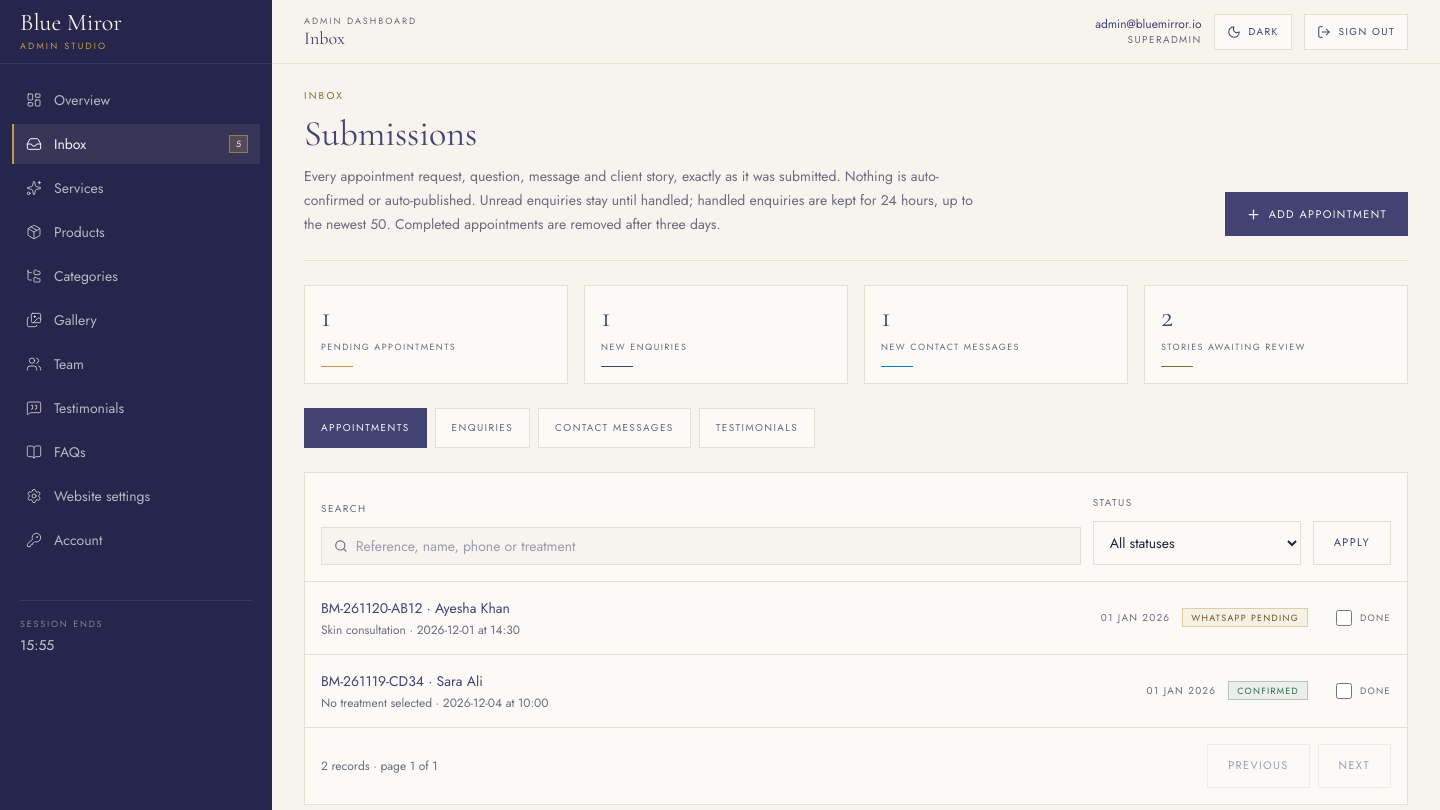
Test: Inbox page › opens an appointment and records a status change with history
Click the text "BM-261120-AB12 · Ayesha Khan".
click(420, 608)  # box [321,598,520,618]
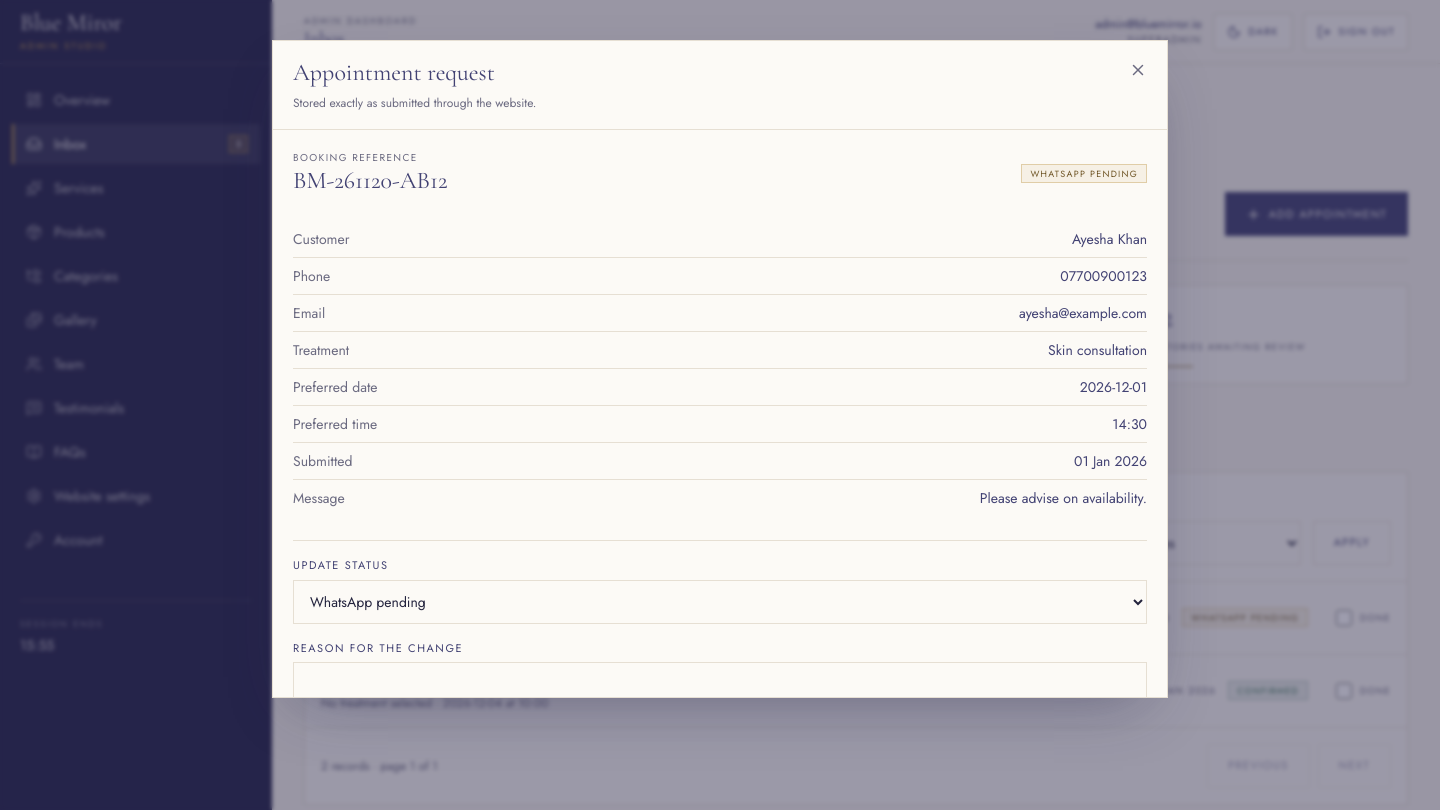
Result: the text "Ayesha Khan" is shown at [1072,229,1147,249]
Result: the text "07700900123" is shown at [1060,266,1147,286]
Result: the text "Please advise on availability." is shown at [980,488,1147,508]
Select "Contacted" in the dropdown labelled "Update status" at (720, 602), box [293,580,1147,624]
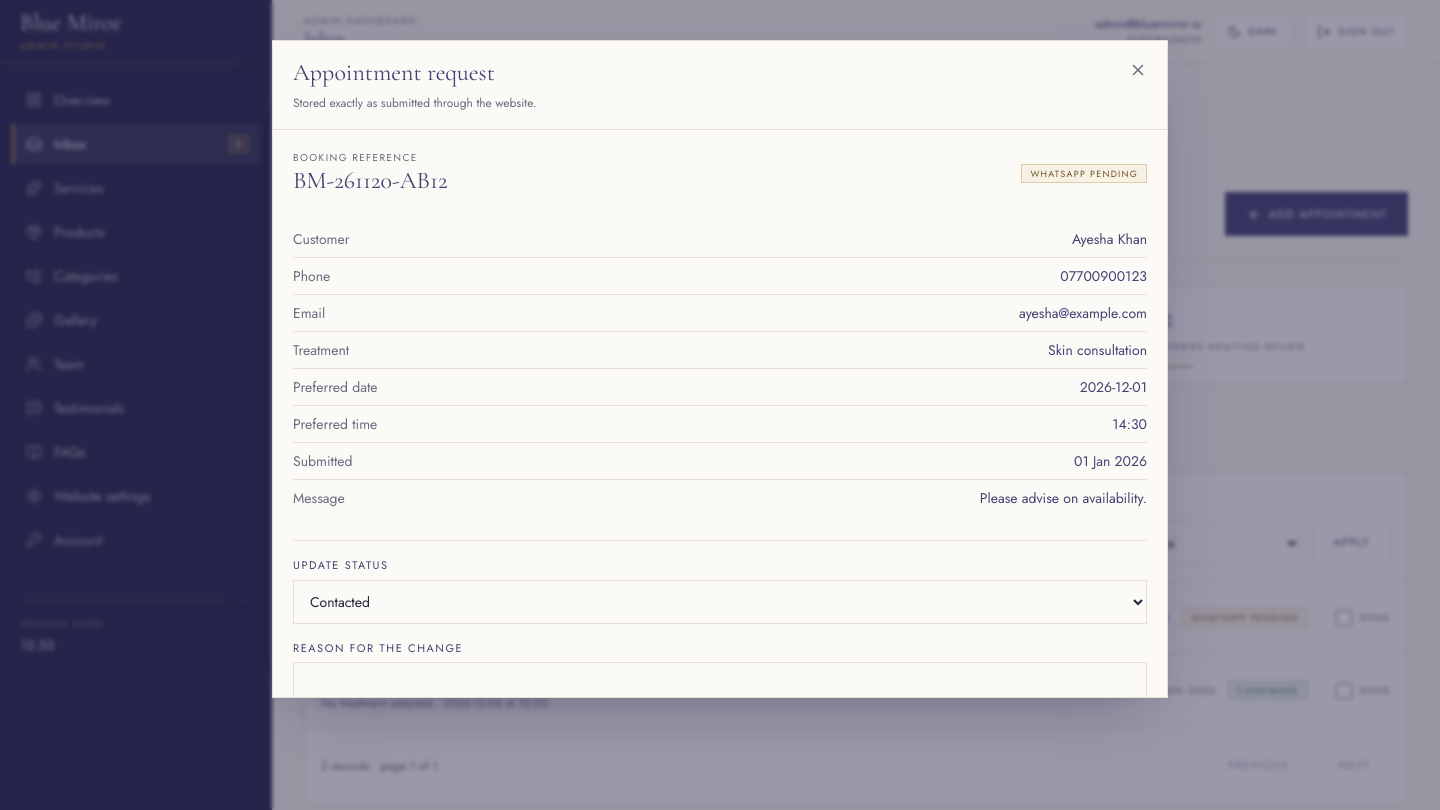
Type "Called the customer" into the field labelled "Reason for the change".
click(720, 684); type("Called the customer")  # box [293,662,1147,706]
(page scrolled)
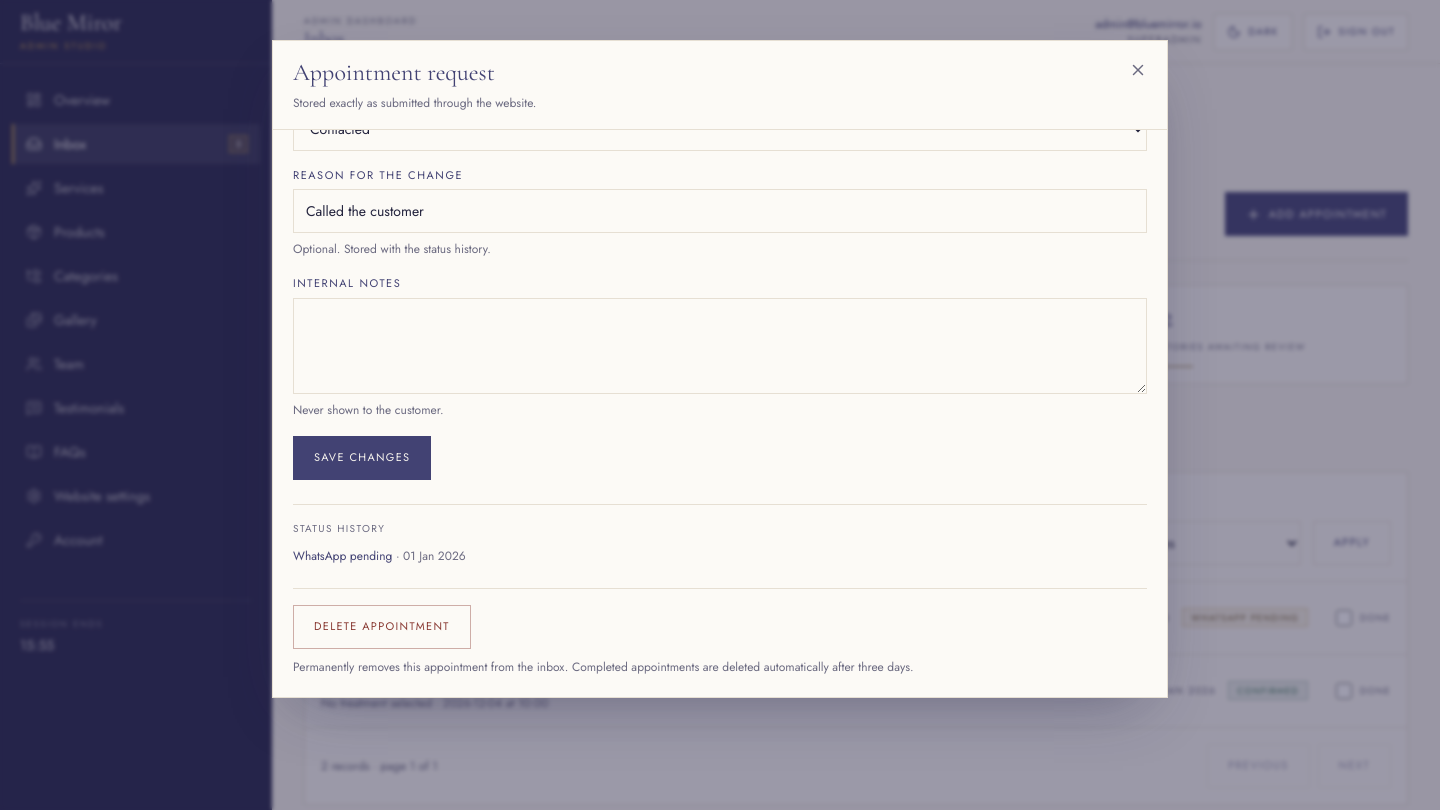
Click the button "Save changes".
click(362, 458)  # box [293,436,431,480]
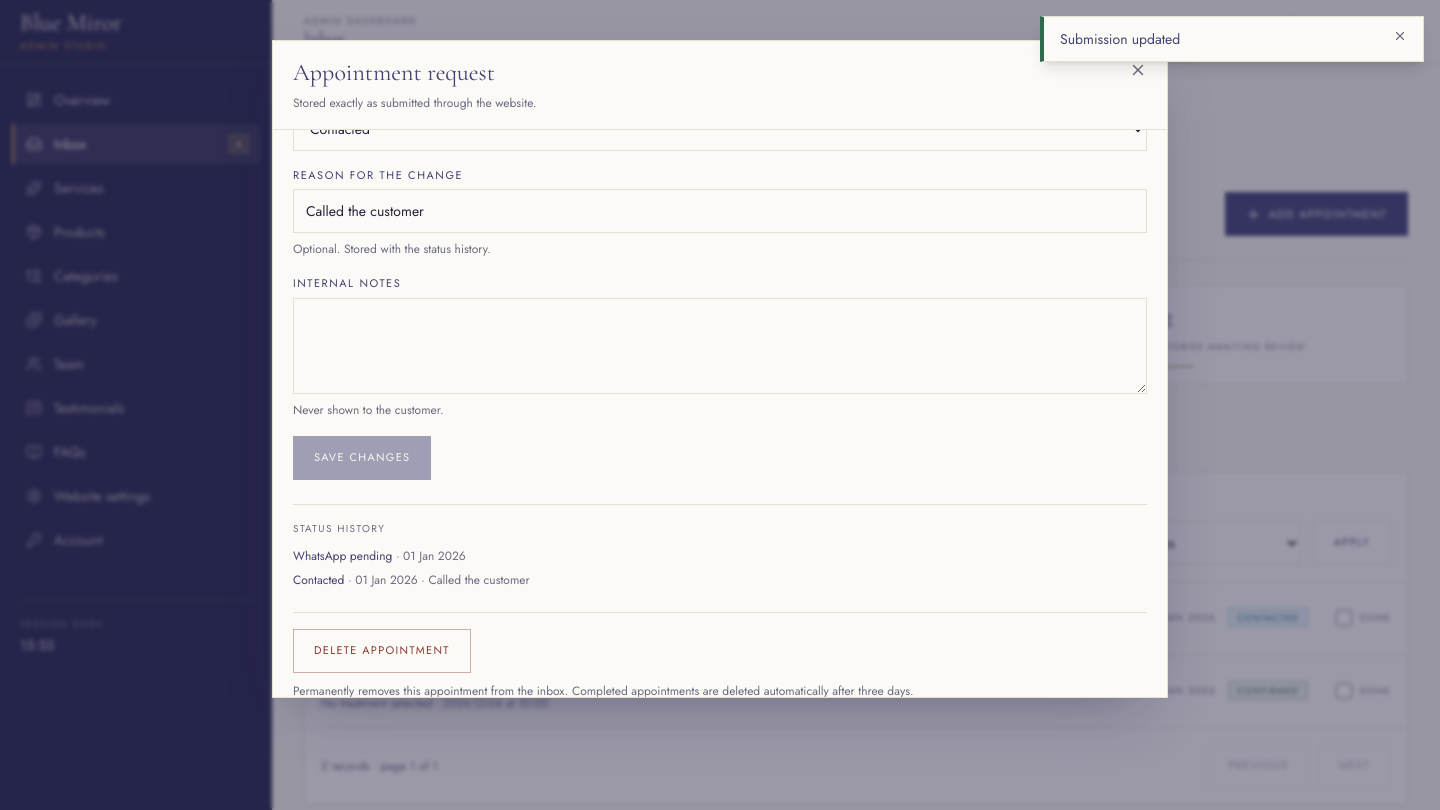
Result: the text "Submission updated" is shown at [1060,29,1180,49]
Result: the list item "Contacted · 01 Jan 2026 · Called the customer" is shown at [293,570,530,588]
